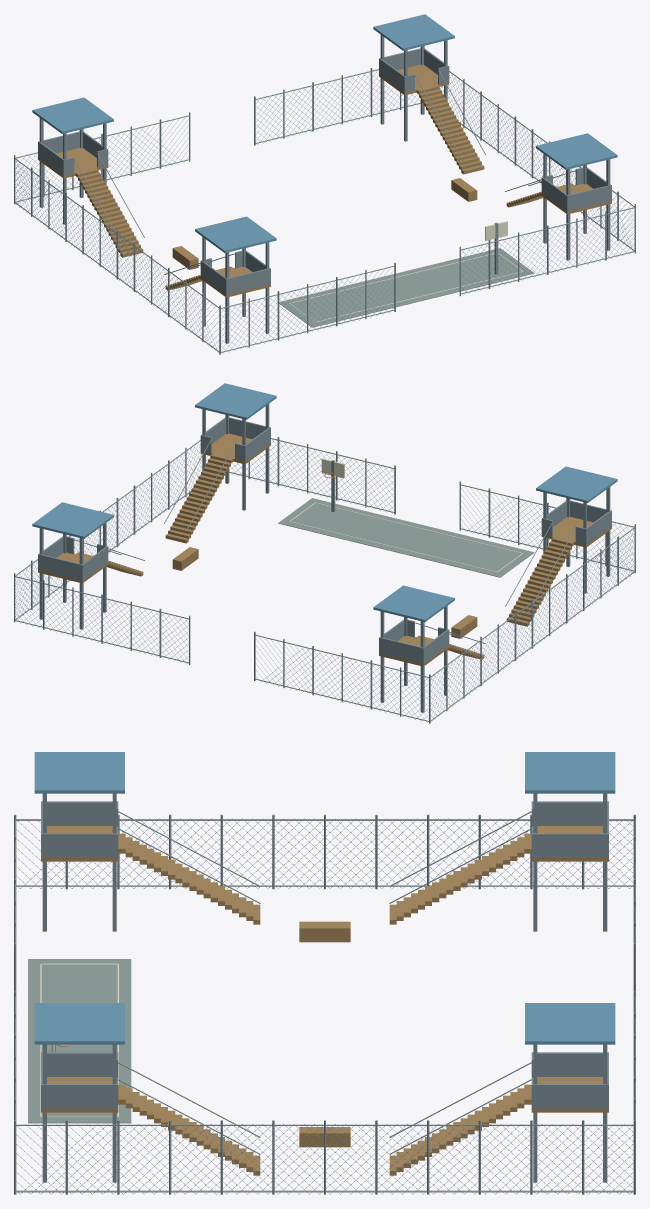
File: jail-grounds.glb
3 renders of one model, top to bottom at view 1: azimuth 30°, elevation 25°; view 2: azimuth 150°, elevation 25°; view 3: azimuth 270°, elevation 25°, orthographic. The views are drawn at different scales.
Parts seen in each view (by area): view 1: fence post, bench, courtyard surface, tower canopy, court sideline; view 2: fence post, bench, courtyard surface, tower canopy, court sideline; view 3: fence post, bench, tower canopy, courtyard surface, court sideline.
Boxes of the visible parts, x1,y1,x2,y2 form: fence post: (14, 35, 635, 354); bench: (38, 64, 611, 297); courtyard surface: (279, 248, 534, 327); tower canopy: (32, 14, 617, 252); court sideline: (289, 221, 522, 322); fence post: (14, 404, 635, 723); bench: (38, 433, 611, 666); courtyard surface: (278, 498, 534, 577); tower canopy: (32, 383, 617, 621); court sideline: (289, 458, 522, 572); fence post: (14, 793, 635, 1194); bench: (41, 826, 608, 1175); tower canopy: (34, 752, 615, 1044); courtyard surface: (28, 959, 131, 1123); court sideline: (40, 963, 118, 1117).
Size of the model in its own units: 28.09 by 6.23 by 24.09.
